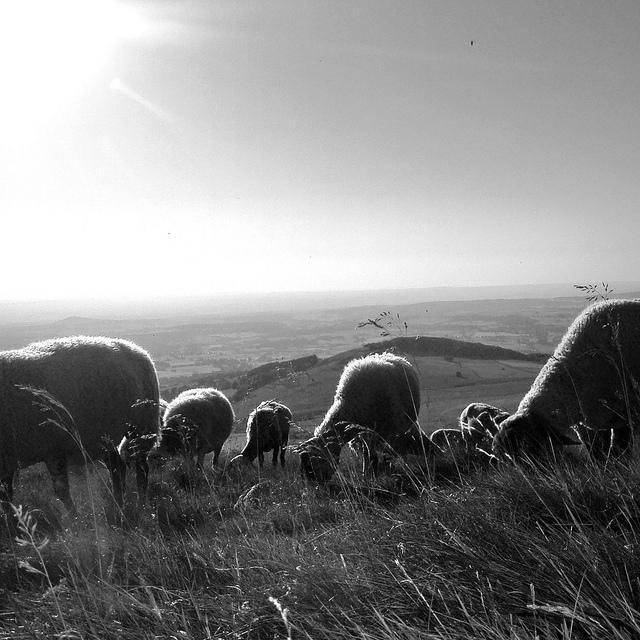Sheep: (0, 337, 161, 522), (490, 297, 639, 474), (293, 354, 421, 488), (159, 387, 236, 468), (227, 401, 293, 474), (460, 402, 512, 458)
